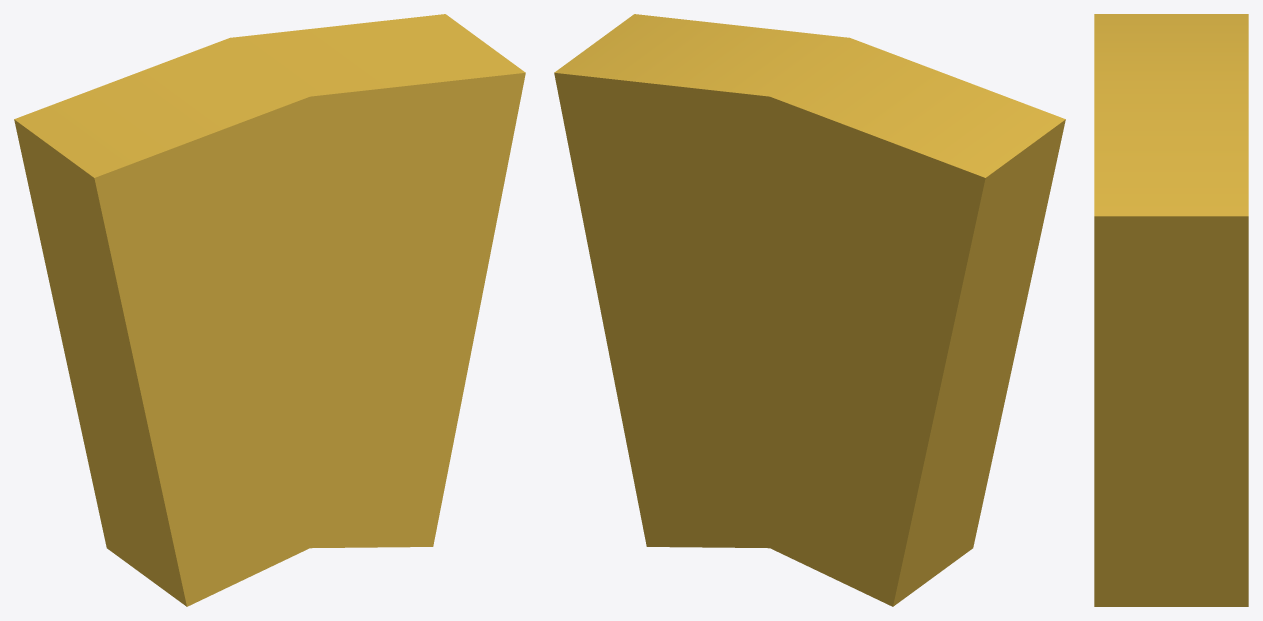
Rendered from pineapple_lowfin.fbx.
3 views of the same model, side by side, from view 1: azimuth 30°, elevation 25°; view 2: azimuth 150°, elevation 25°; view 3: azimuth 270°, elevation 25° (orthographic). The views are drawn at different scales.
Visible parts, largest first — view 1: pCube1; view 2: pCube1; view 3: pCube1.
Boxes of the visible parts, bbox=[...] form: pCube1: bbox=[14, 14, 525, 606]; pCube1: bbox=[554, 14, 1065, 606]; pCube1: bbox=[1094, 14, 1248, 606].
Bounding box in the file's own units: 6 × 6.38 × 1.93.
